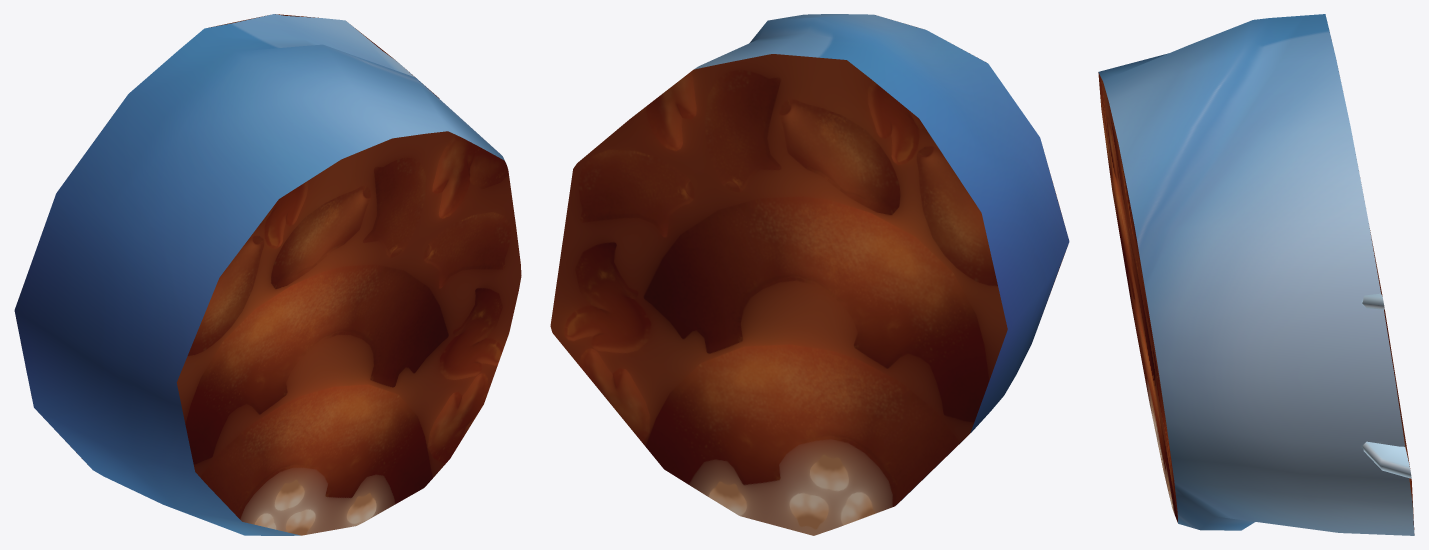
Rendered from fish02.fbx.
3 renders of one model, left to right at view 1: azimuth 30°, elevation 25°; view 2: azimuth 150°, elevation 25°; view 3: azimuth 270°, elevation 25°, orthographic. The views are drawn at different scales.
Parts seen in each view (by area): view 1: fish02; view 2: fish02; view 3: fish02.
Part boxes in pixels (x1=…): fish02: x1=14, y1=14, x2=521, y2=535; fish02: x1=550, y1=14, x2=1069, y2=535; fish02: x1=1098, y1=14, x2=1414, y2=535.
Size of the model in its own units: 0.1811 by 0.1833 by 0.108.
